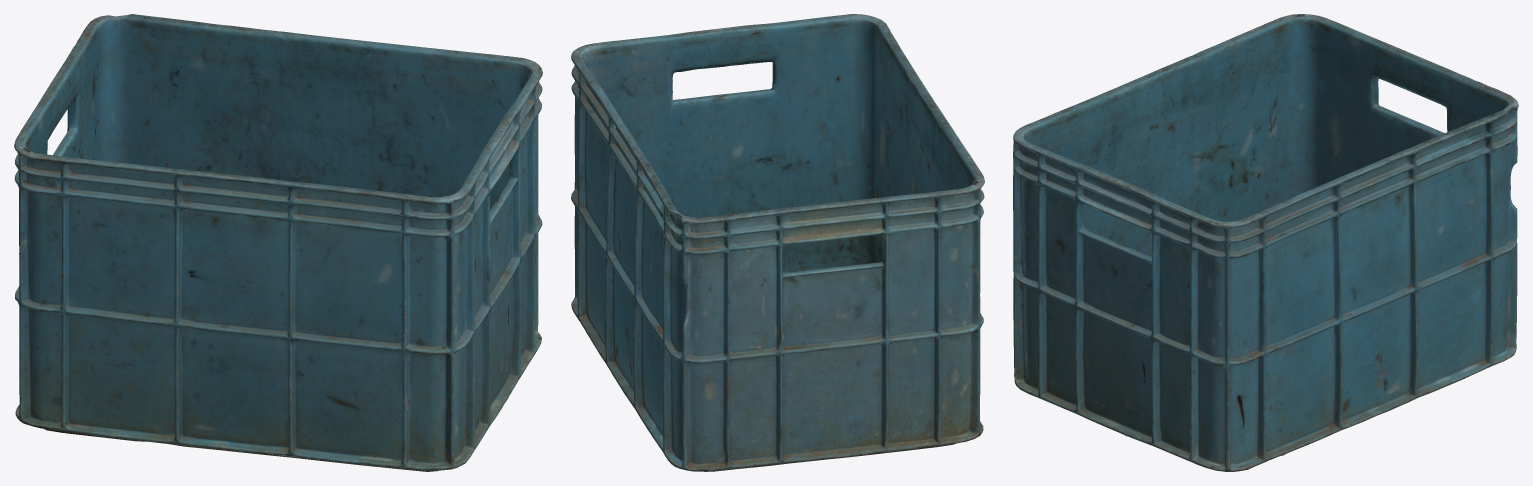
File: plastic_crate_1_-_3d_scan_quixel_megascans.glb
3 renders of one model, left to right at view 1: azimuth 30°, elevation 25°; view 2: azimuth 150°, elevation 25°; view 3: azimuth 270°, elevation 25°, orthographic. The views are drawn at different scales.
Visible parts, largest first — view 1: Object_2; view 2: Object_2; view 3: Object_2.
Boxes of the visible parts, box(x1,y1,x2,y2) form: Object_2: box(14, 14, 542, 471); Object_2: box(571, 14, 984, 471); Object_2: box(1013, 14, 1518, 471).
Size of the model in its own units: 0.4672 by 0.2643 by 0.4691.
1 material, 1 textured.
